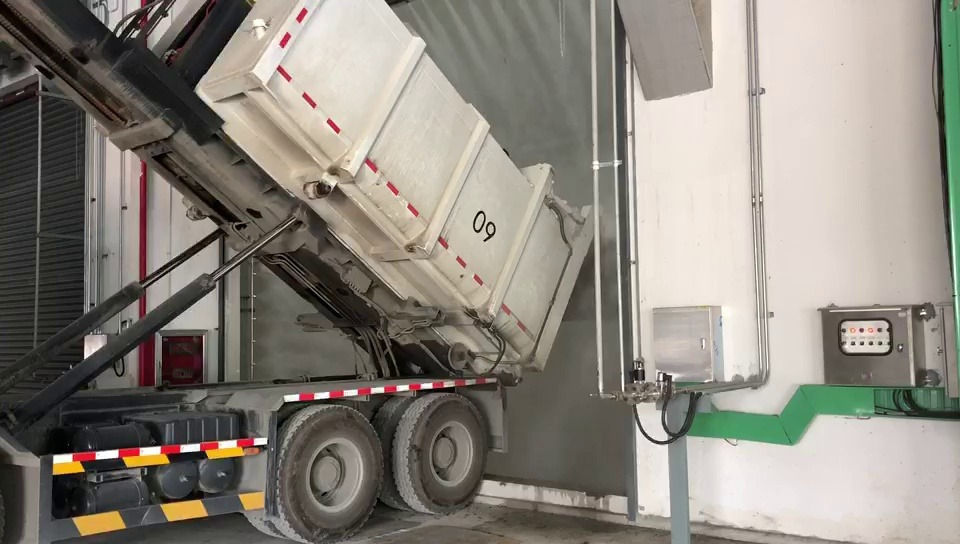truck: (0, 0, 594, 543)
